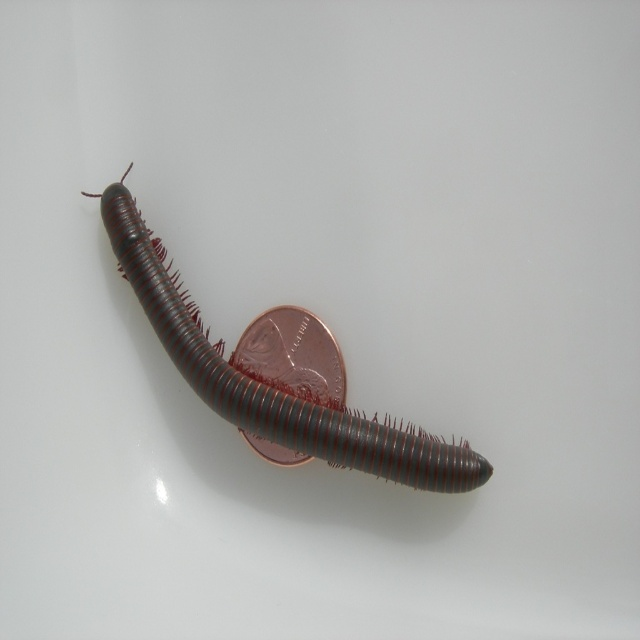Centipede: (76, 161, 494, 492)
